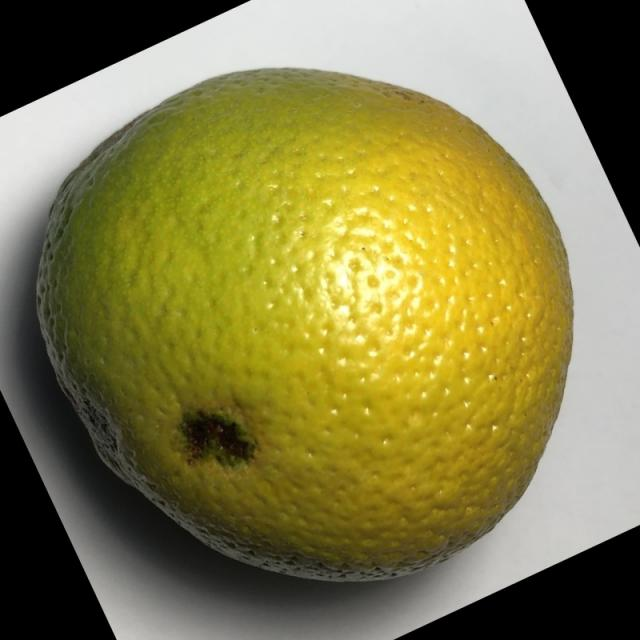canker: (12, 50, 592, 599)
